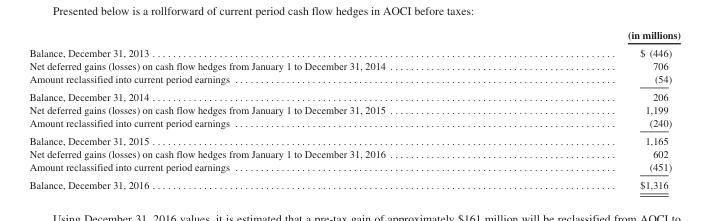table: (28, 28, 680, 190)
table column: (28, 28, 505, 190), (505, 28, 680, 190)
table column header: (28, 28, 680, 43)
table row: (28, 43, 680, 59), (28, 87, 680, 103), (28, 131, 680, 147), (28, 28, 680, 43), (28, 72, 680, 87), (28, 116, 680, 131), (28, 160, 680, 175), (28, 175, 680, 190), (28, 59, 680, 72), (28, 103, 680, 116), (28, 147, 680, 160)
